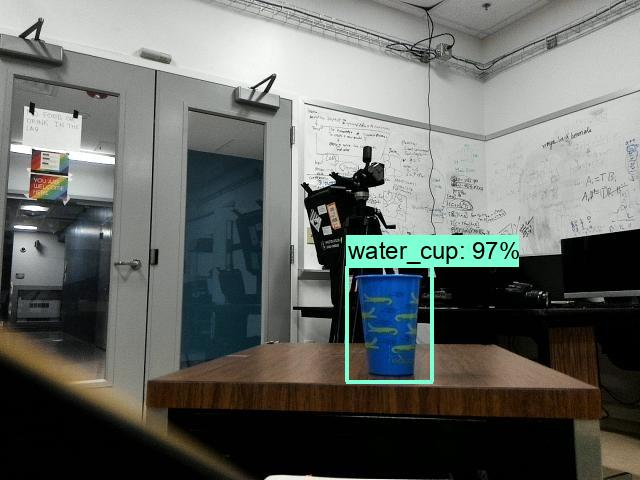water_cup: (344, 270, 432, 380)
